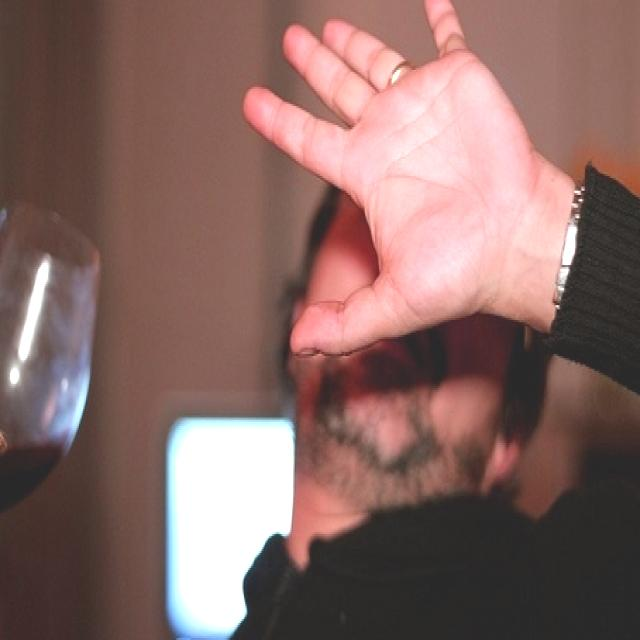piel: (243, 0, 576, 575)
